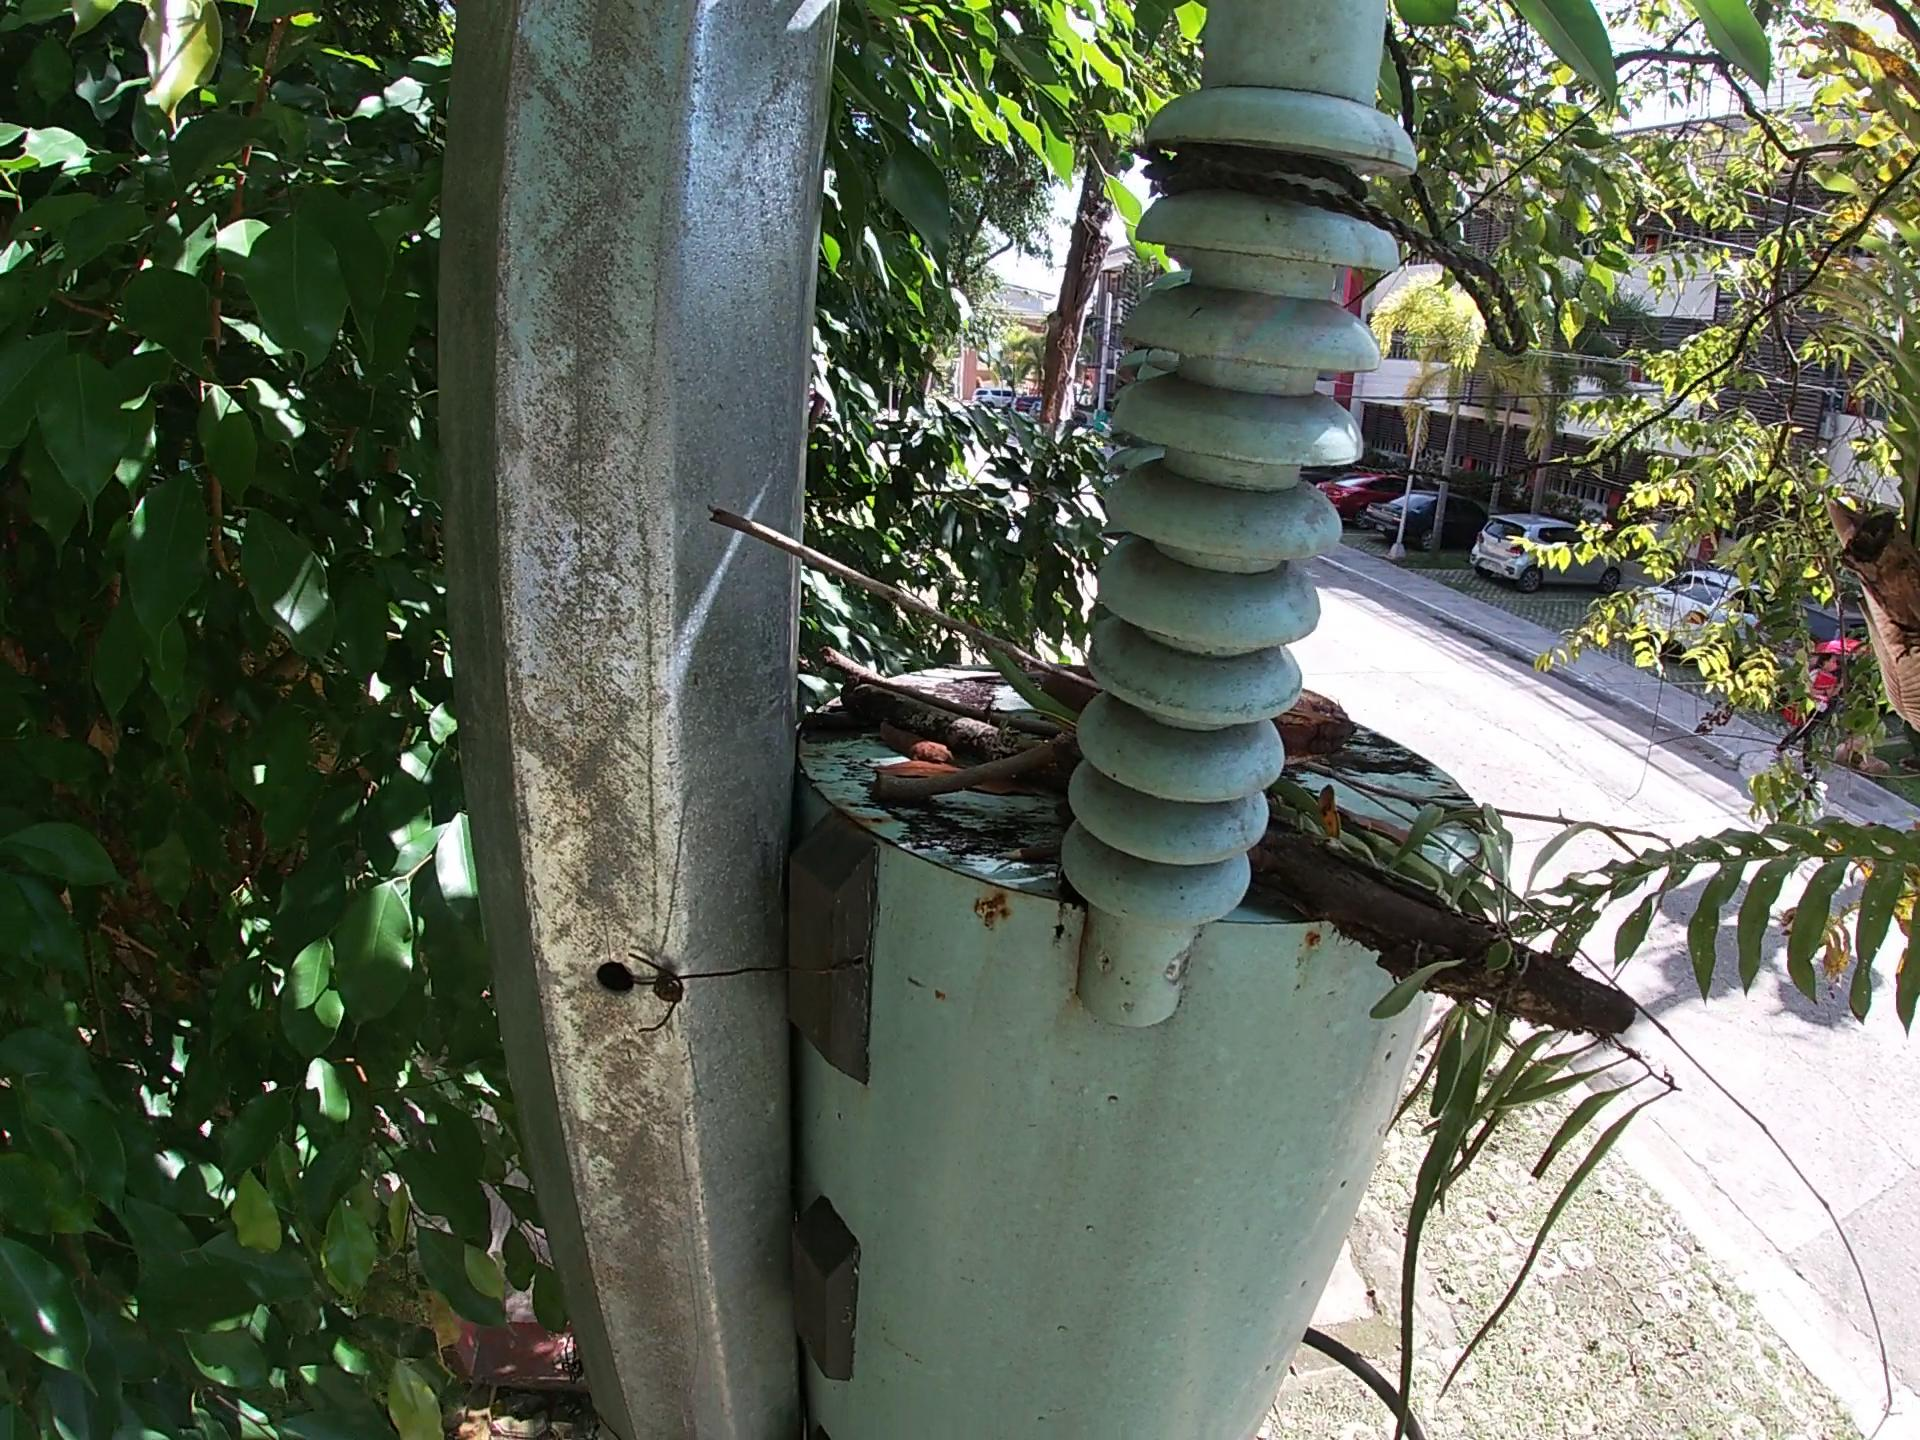branch with leaves: (828, 663, 1630, 1000)
leaf: (839, 682, 999, 811), (1274, 773, 1397, 891)
mahogany fruit: (698, 501, 868, 585)
tree branch: (671, 476, 1823, 1115), (863, 722, 1108, 824)
